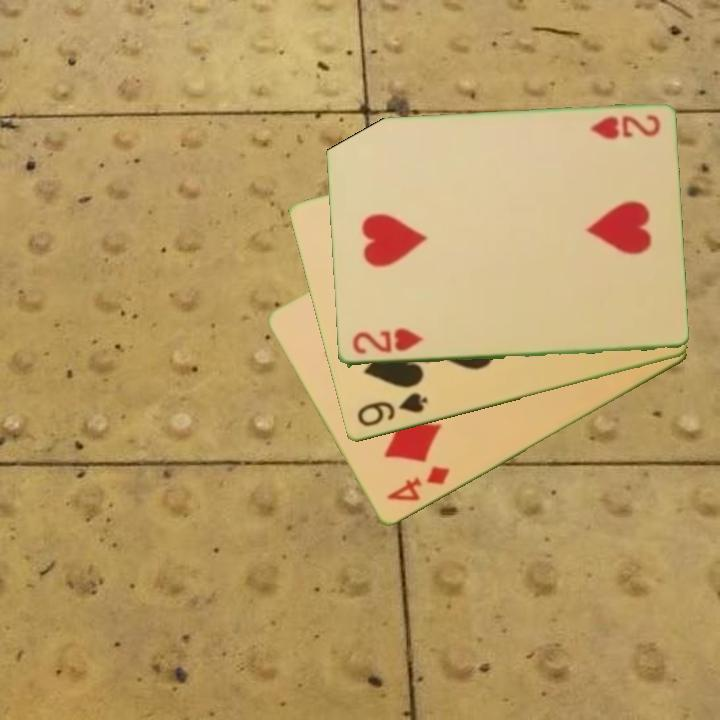2h: (349, 326, 426, 358), (586, 111, 663, 143)
4d: (383, 463, 453, 505)
9s: (353, 389, 431, 431)
